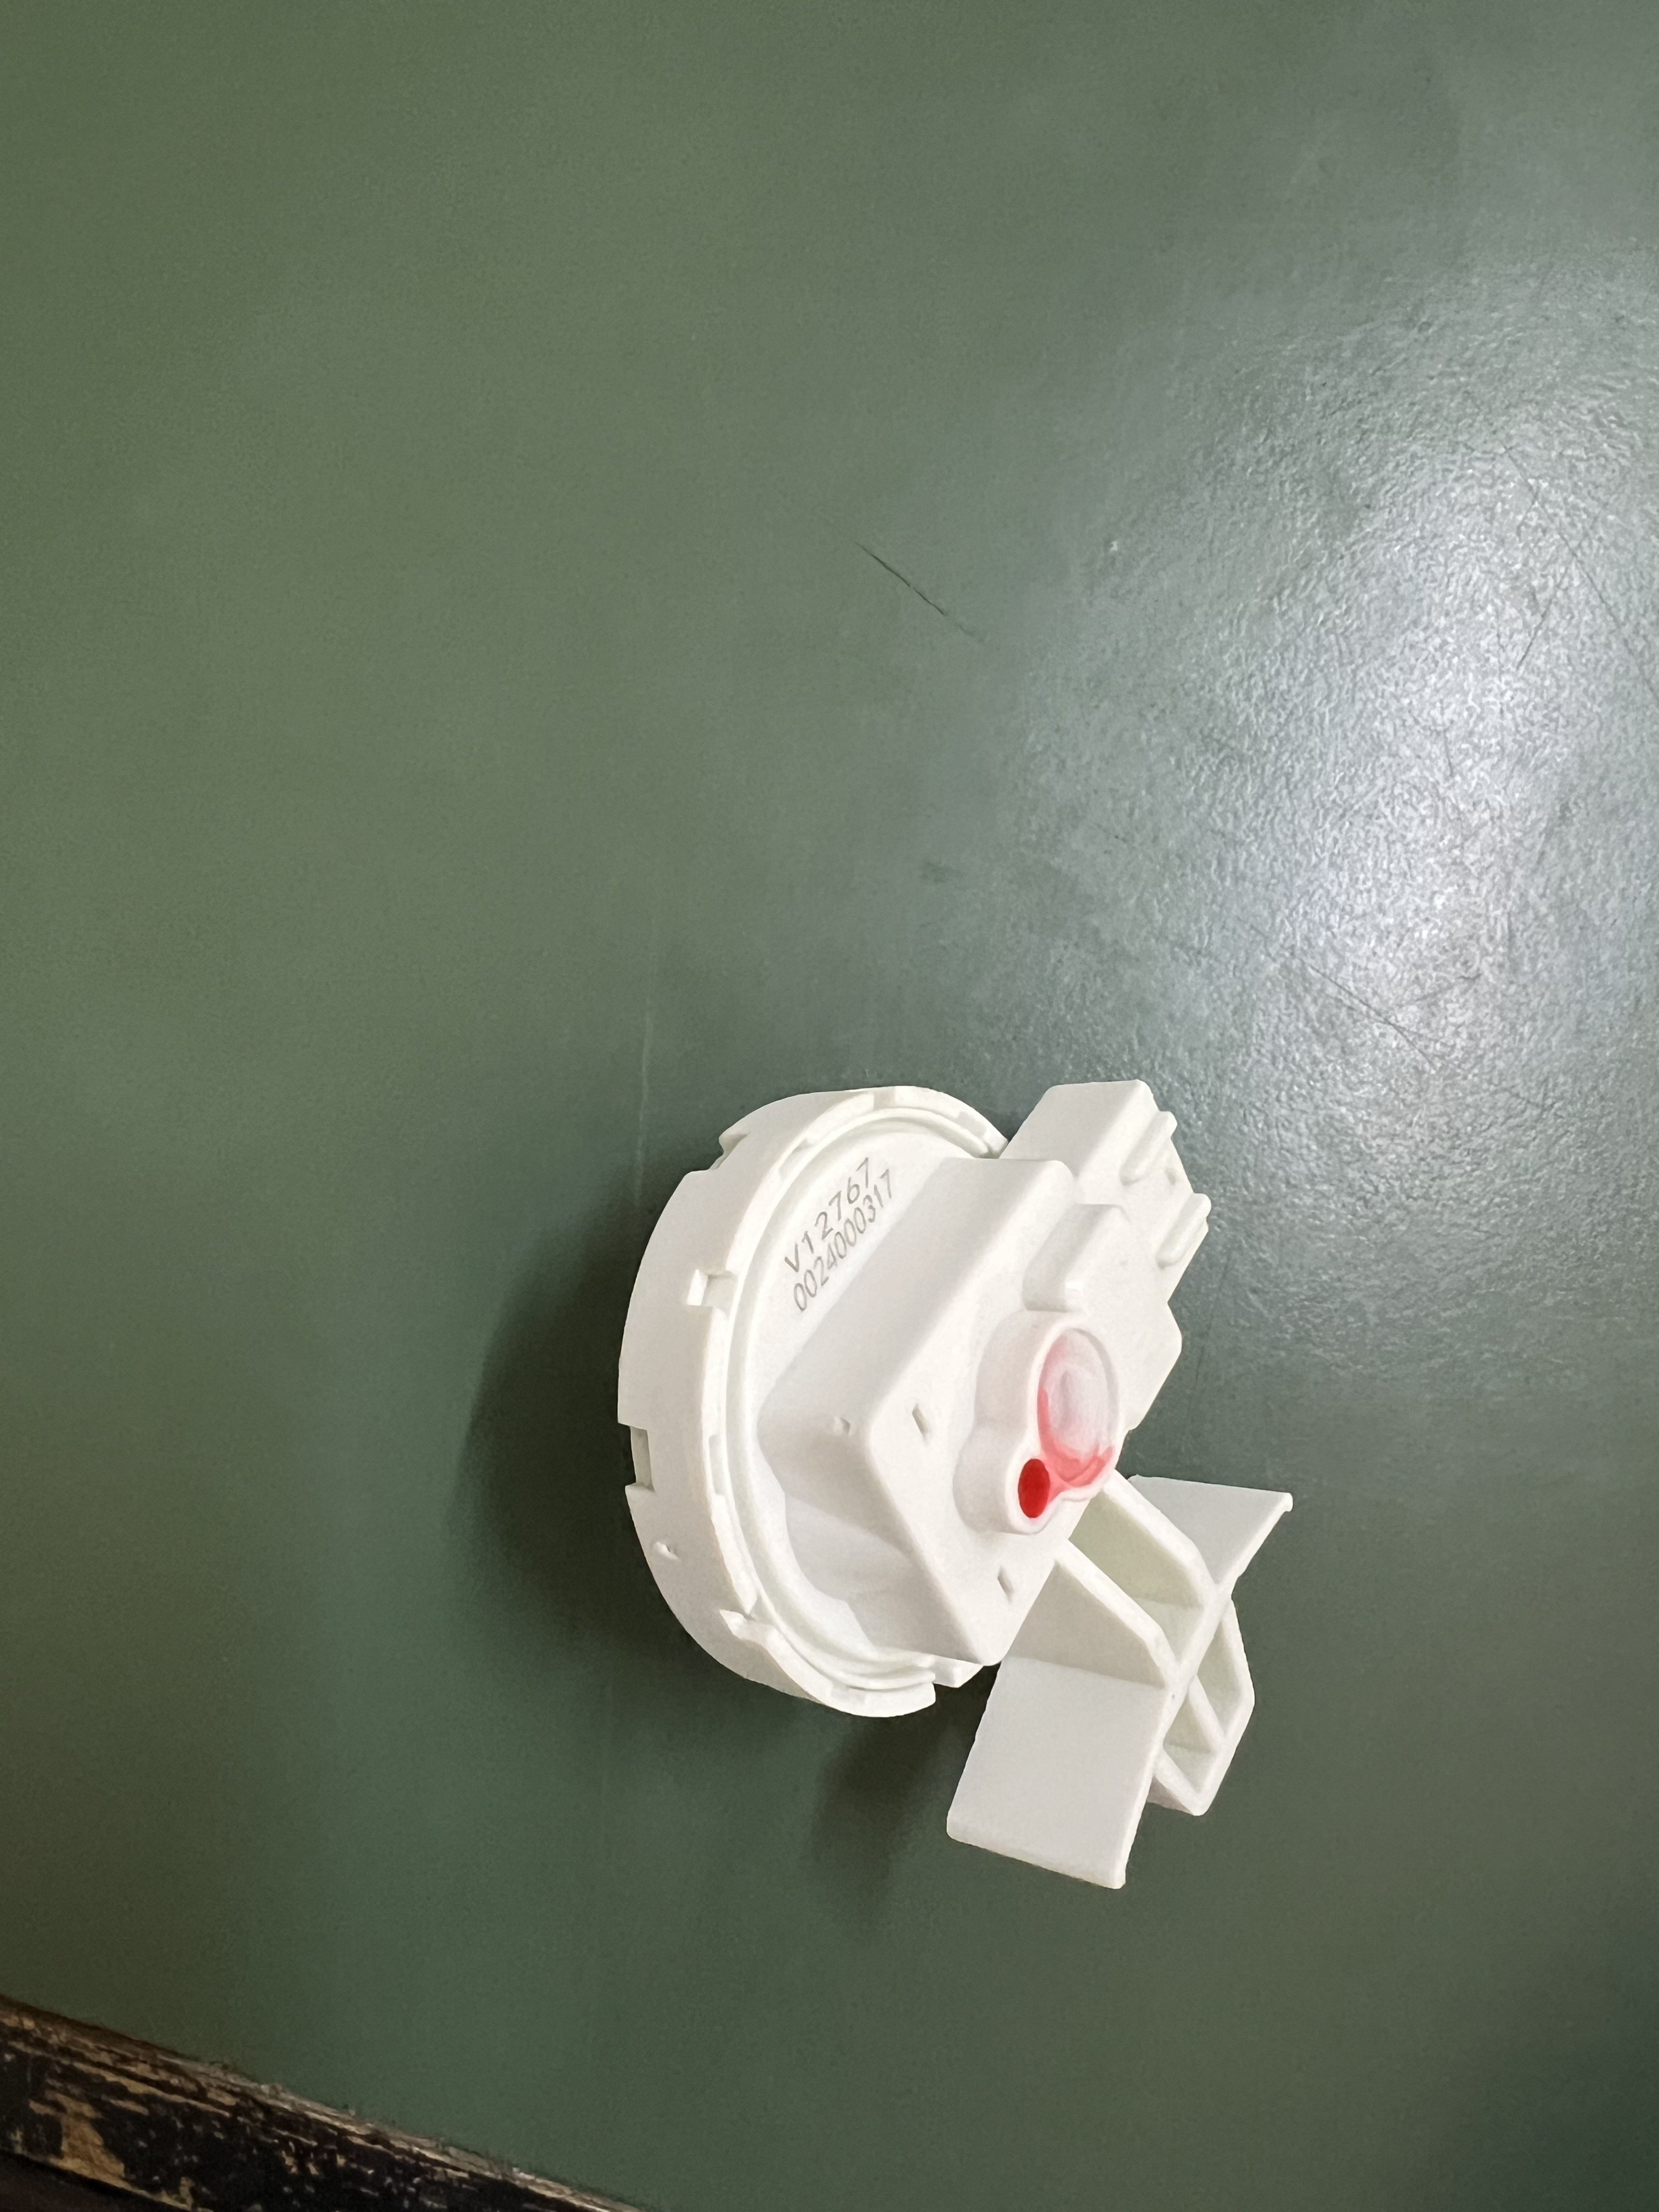pressure_switch_2: (586, 1015, 1326, 1907)
